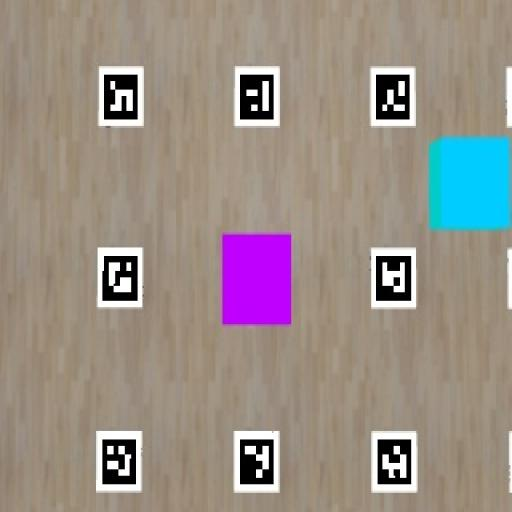car: (429, 137, 511, 230), (221, 233, 292, 326)
